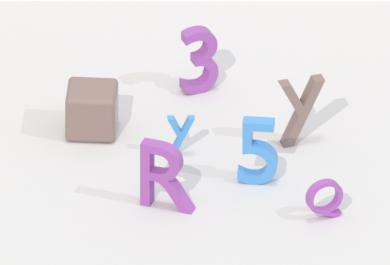0-KhoiVuong: (60, 72, 124, 149), (300, 175, 346, 226)
3: (175, 19, 223, 99)
5: (233, 111, 282, 188)
R: (137, 137, 198, 218)
y: (275, 68, 330, 152), (163, 111, 198, 154)
